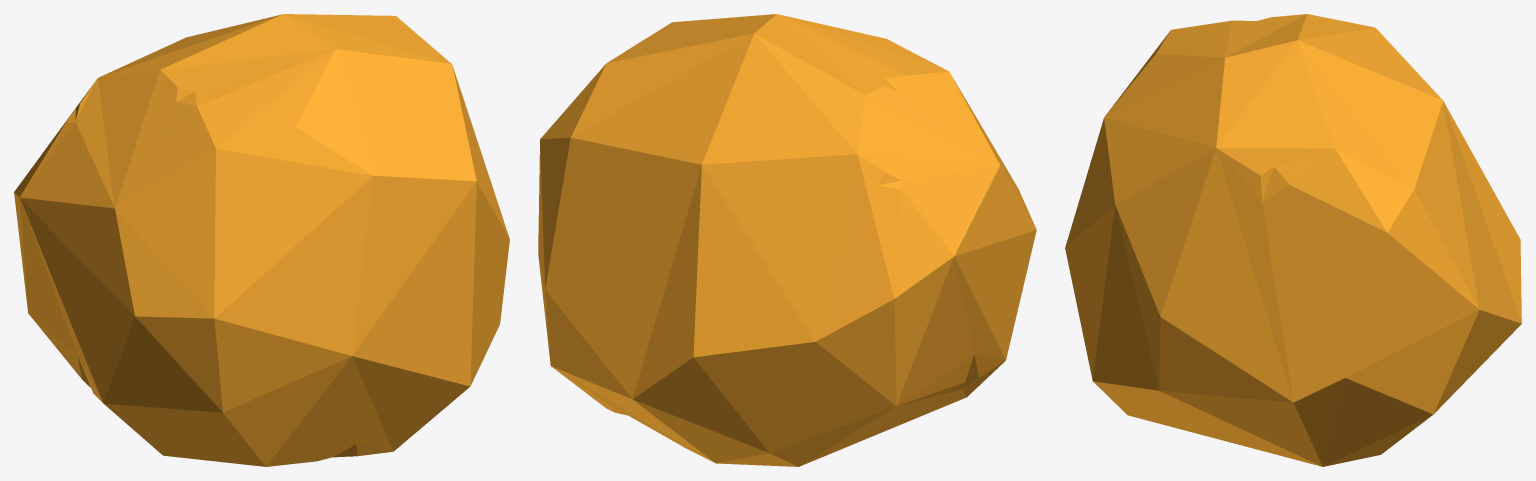
The model's file is SM_Catapult_Ammo_Stone.fbx.
3 renders of one model, left to right at view 1: azimuth 30°, elevation 25°; view 2: azimuth 150°, elevation 25°; view 3: azimuth 270°, elevation 25°, orthographic. The views are drawn at different scales.
Parts seen in each view (by area): view 1: catapult-ammo-stone; view 2: catapult-ammo-stone; view 3: catapult-ammo-stone.
Part boxes in pixels (left/top/right/bottom): catapult-ammo-stone: left=14, top=14, right=509, bottom=466; catapult-ammo-stone: left=538, top=14, right=1036, bottom=466; catapult-ammo-stone: left=1065, top=14, right=1521, bottom=466.
Bounding box in the file's own units: 0.5278 × 0.4466 × 0.5025.
